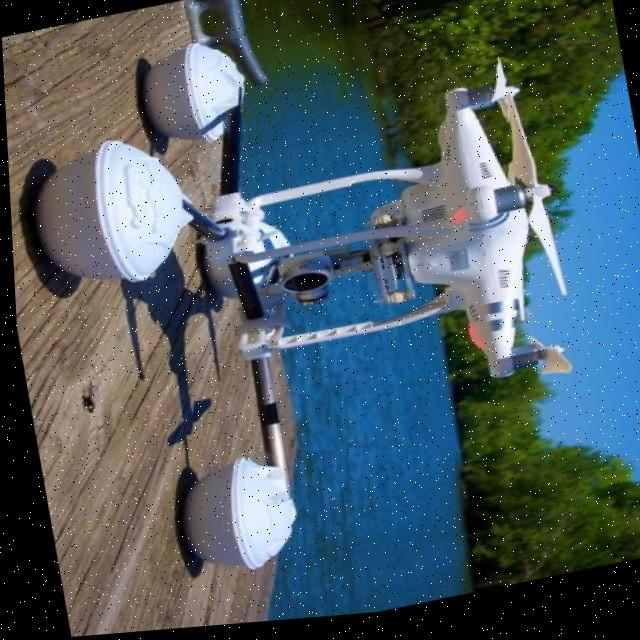drones: (5, 0, 625, 605)
